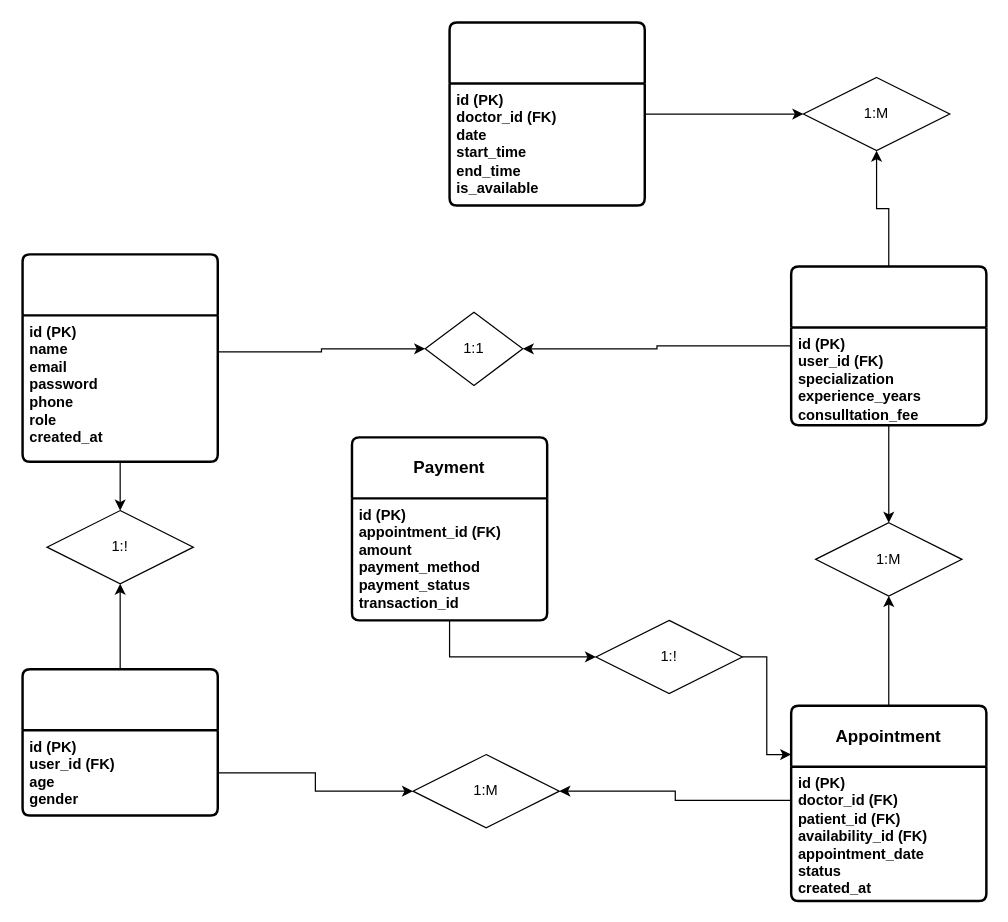
Image size: 1008x922. Some labels were removed from this diagram. Each missing label, with the box of its shape:
Availability: (448, 21, 645, 206)
Doctor: (789, 265, 987, 426)
Patient: (21, 667, 218, 816)
User: (21, 253, 218, 462)
